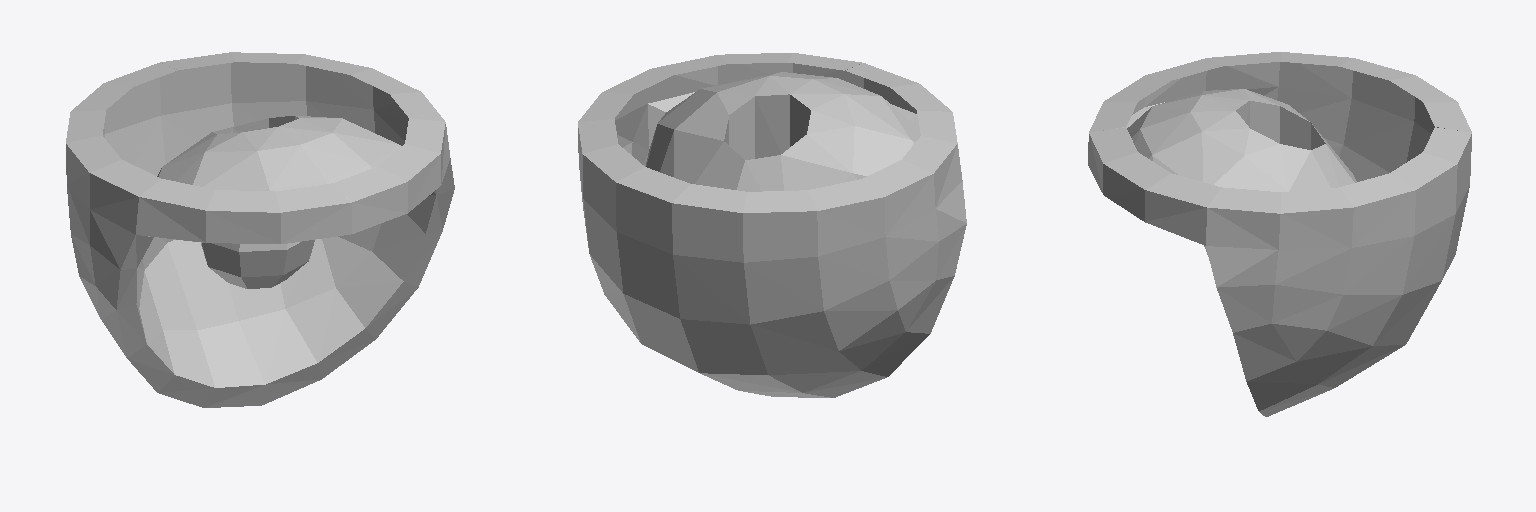
File: rotatingLightBottom.obj
3 views of the same model, side by side, from view 1: azimuth 30°, elevation 25°; view 2: azimuth 150°, elevation 25°; view 3: azimuth 270°, elevation 25° (orthographic).
Visible parts, largest first — view 1: Cube.003_Cube.002; view 2: Cube.003_Cube.002; view 3: Cube.003_Cube.002.
Boxes of the visible parts, <box> form: Cube.003_Cube.002: <box>66,52,454,407</box>; Cube.003_Cube.002: <box>578,53,966,397</box>; Cube.003_Cube.002: <box>1088,52,1471,416</box>.
Bounding box in the file's own units: 0.1133 × 0.0934 × 0.1119.